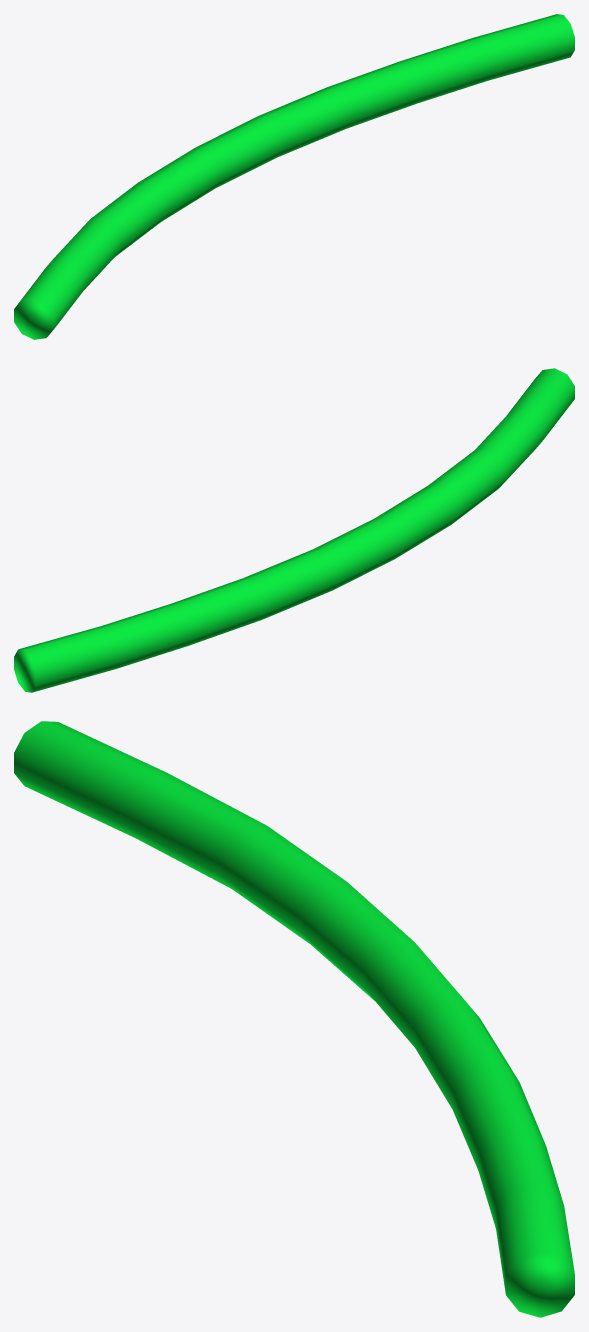
The model's file is Pipe_Turn_45_B_Ext.fbx.
The picture shows the model from 3 angles, top to bottom: view 1: azimuth 30°, elevation 25°; view 2: azimuth 210°, elevation 25°; view 3: azimuth 270°, elevation 25°; orthographic projection. The views are drawn at different scales.
Parts seen in each view (by area): view 1: Pipe_Turn_45_B_Ext; view 2: Pipe_Turn_45_B_Ext; view 3: Pipe_Turn_45_B_Ext.
Boxes of the visible parts, x1,y1,x2,y2 form: Pipe_Turn_45_B_Ext: [14, 14, 574, 339]; Pipe_Turn_45_B_Ext: [14, 368, 574, 692]; Pipe_Turn_45_B_Ext: [14, 721, 574, 1317].
Size of the model in its own units: 3.95 by 0.2282 by 1.73.
